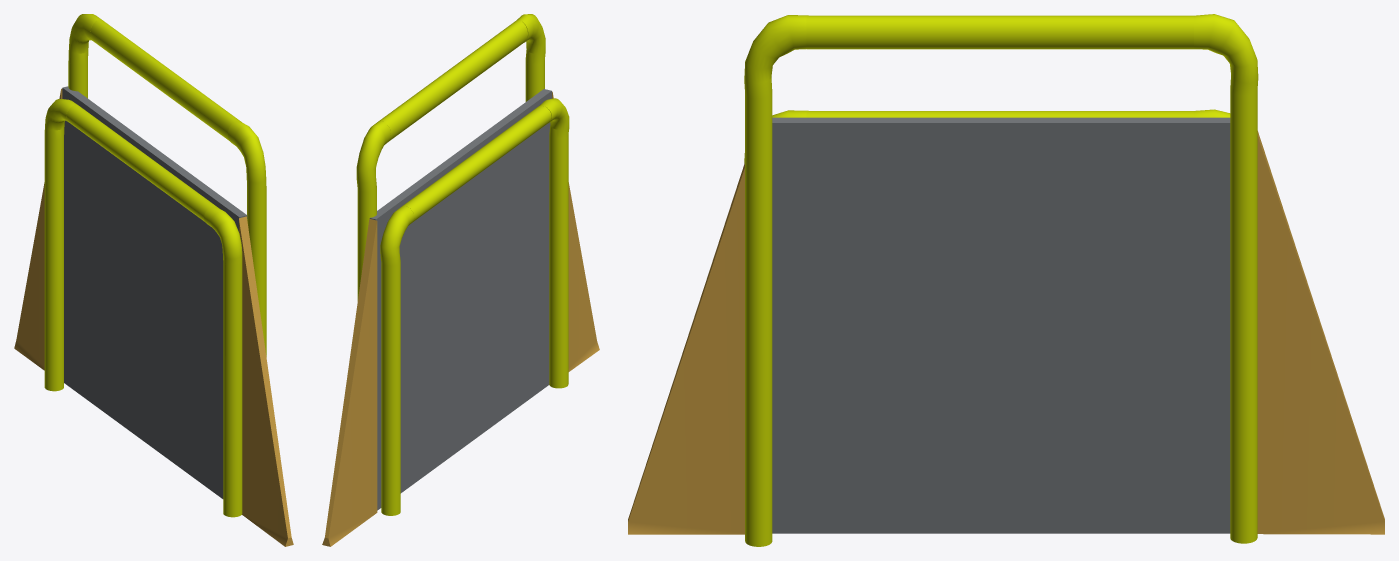
File: Barrier.fbx
3 renders of one model, left to right at view 1: azimuth 30°, elevation 25°; view 2: azimuth 150°, elevation 25°; view 3: azimuth 270°, elevation 25°, orthographic. The views are drawn at different scales.
Visible parts, largest first — view 1: polySurface235; view 2: polySurface235; view 3: polySurface235.
Boxes of the visible parts, <box> form: polySurface235: <box>14,14,293,546</box>; polySurface235: <box>322,14,599,546</box>; polySurface235: <box>628,14,1384,546</box>.
Size of the model in its own units: 0.5133 by 4.03 by 5.28.
